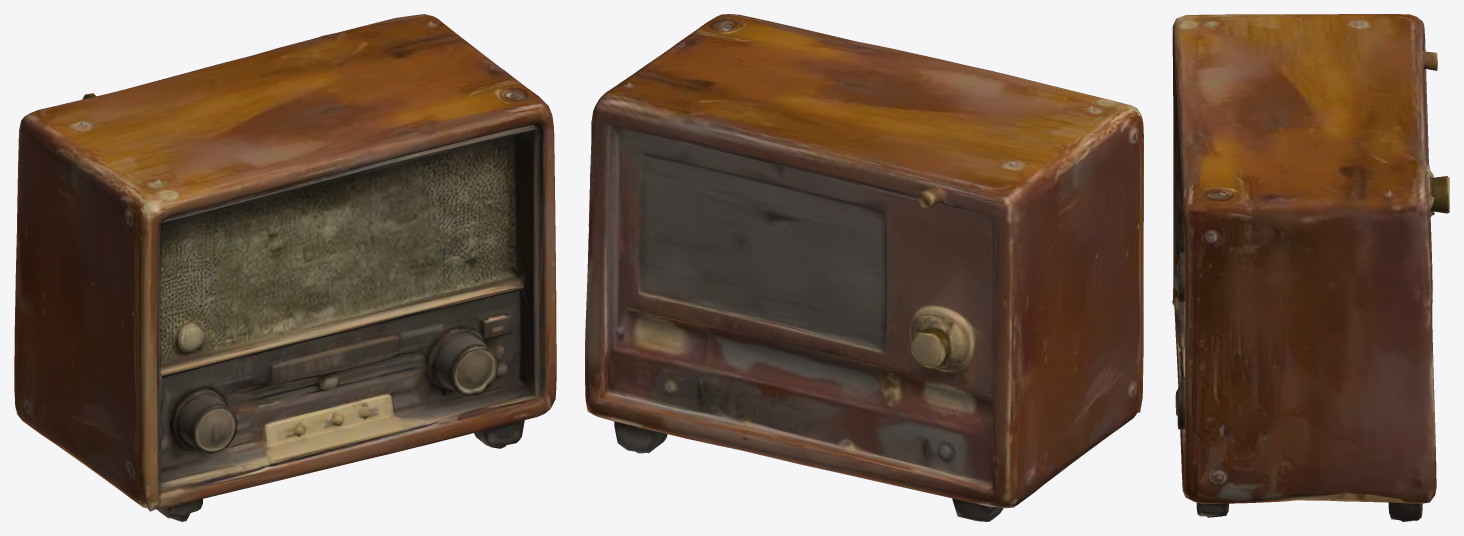
The model's file is broadcast.glb.
3 views of the same model, side by side, from view 1: azimuth 30°, elevation 25°; view 2: azimuth 150°, elevation 25°; view 3: azimuth 270°, elevation 25° (orthographic). The views are drawn at different scales.
Parts seen in each view (by area): view 1: tripo_node_2b716091-4146-4d91-a4a1-608d5ff41ea5; view 2: tripo_node_2b716091-4146-4d91-a4a1-608d5ff41ea5; view 3: tripo_node_2b716091-4146-4d91-a4a1-608d5ff41ea5.
Boxes of the visible parts, <box> form: tripo_node_2b716091-4146-4d91-a4a1-608d5ff41ea5: <box>14,14,556,521</box>; tripo_node_2b716091-4146-4d91-a4a1-608d5ff41ea5: <box>585,14,1143,521</box>; tripo_node_2b716091-4146-4d91-a4a1-608d5ff41ea5: <box>1172,14,1449,521</box>.
Size of the model in its own units: 1 by 0.7872 by 0.5846.
1 material, 1 textured.
